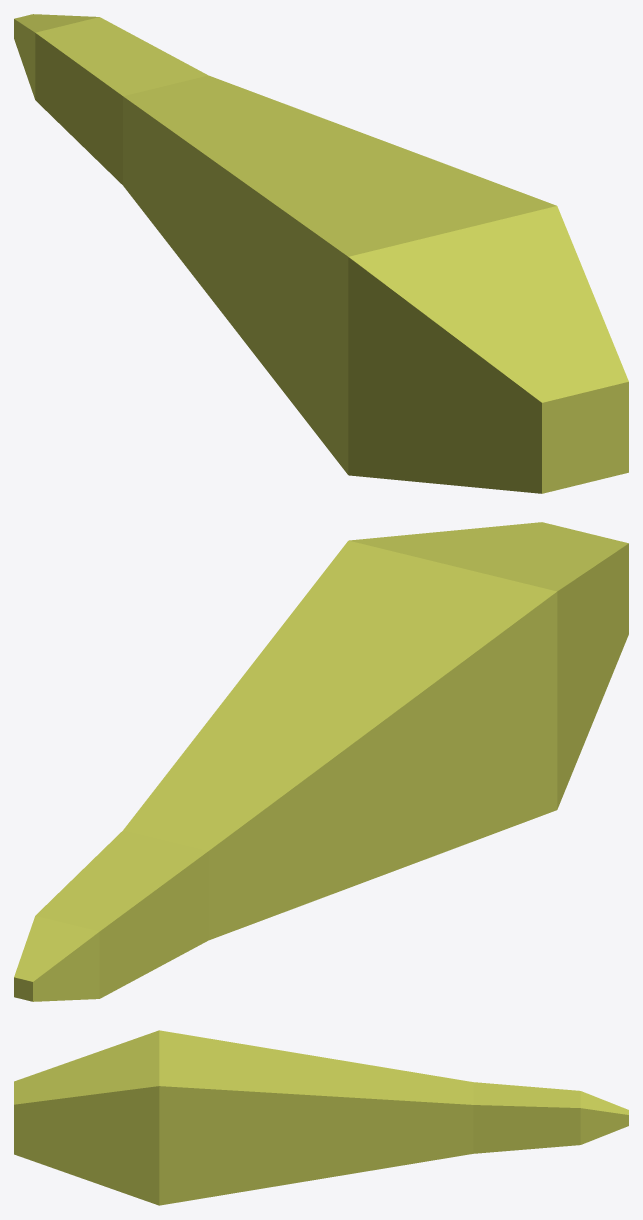
The model's file is bone.fbx.
The picture shows the model from 3 angles, top to bottom: view 1: azimuth 30°, elevation 25°; view 2: azimuth 150°, elevation 25°; view 3: azimuth 270°, elevation 25°; orthographic projection. The views are drawn at different scales.
Parts seen in each view (by area): view 1: Cube; view 2: Cube; view 3: Cube.
Boxes of the visible parts, x1,y1,x2,y2 form: Cube: (14,14,628,493); Cube: (14,522,628,1001); Cube: (14,1030,628,1205).
Size of the model in its own units: 0.5463 by 0.5463 by 2.55.
